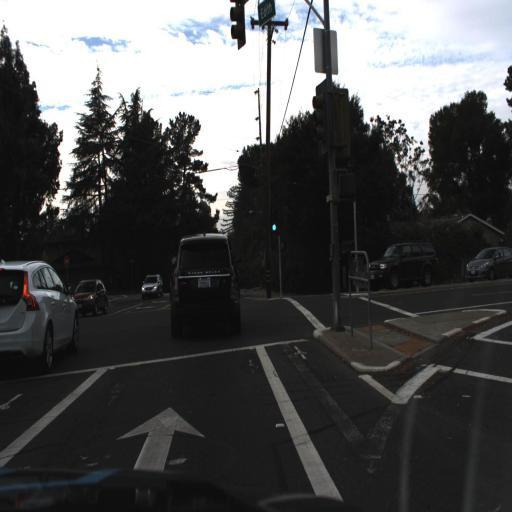car: (0, 258, 78, 370), (169, 230, 240, 338), (369, 239, 439, 290), (462, 244, 511, 282), (68, 278, 107, 317), (138, 272, 165, 304)
trafficLight-Green: (268, 207, 279, 237)
